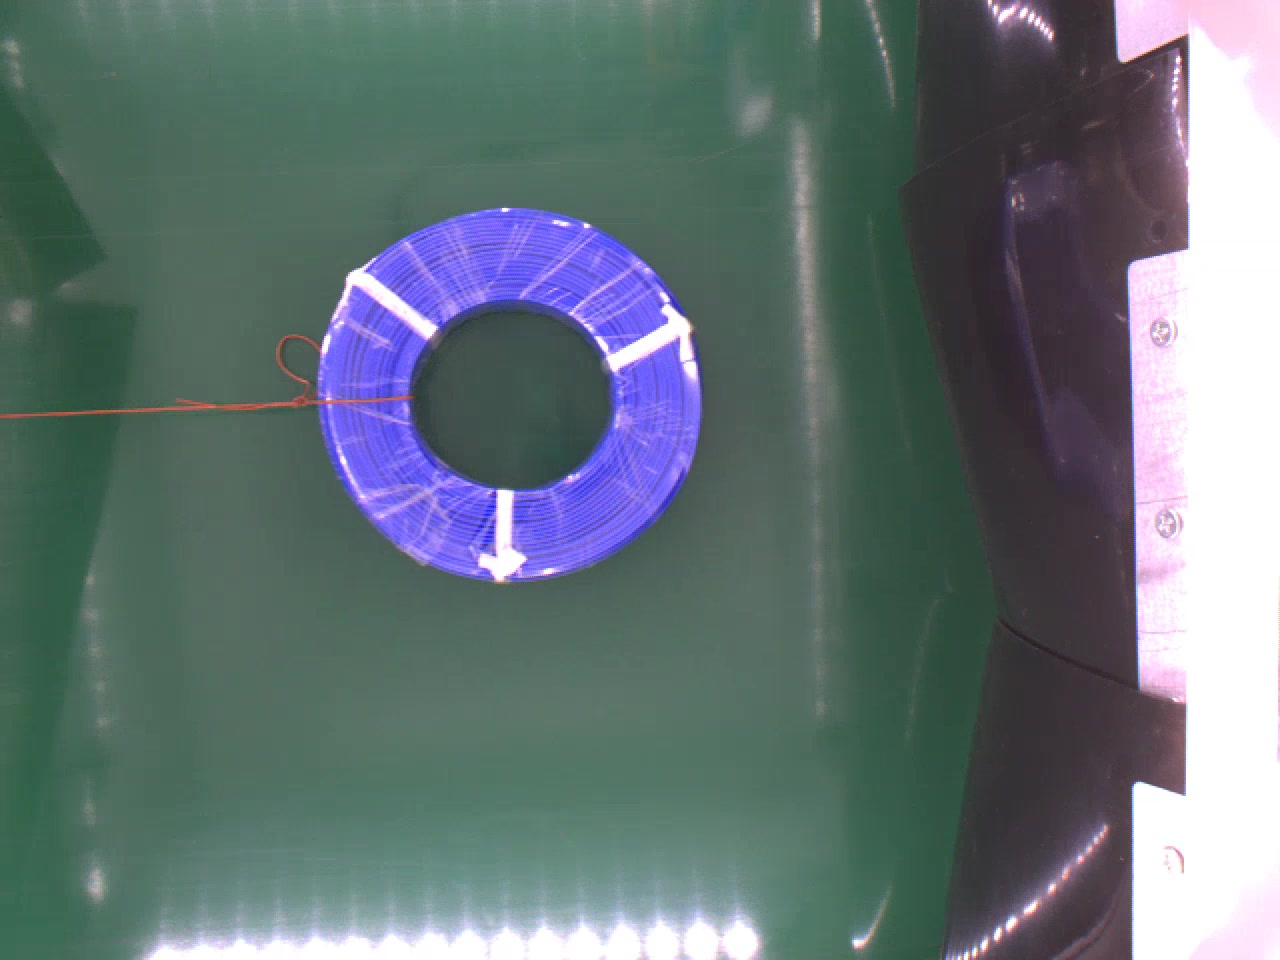blue: (312, 202, 703, 580)
